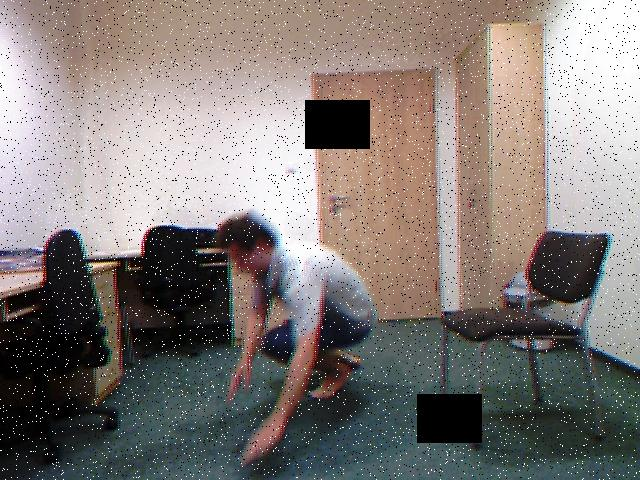near-fall: (208, 208, 381, 465)
